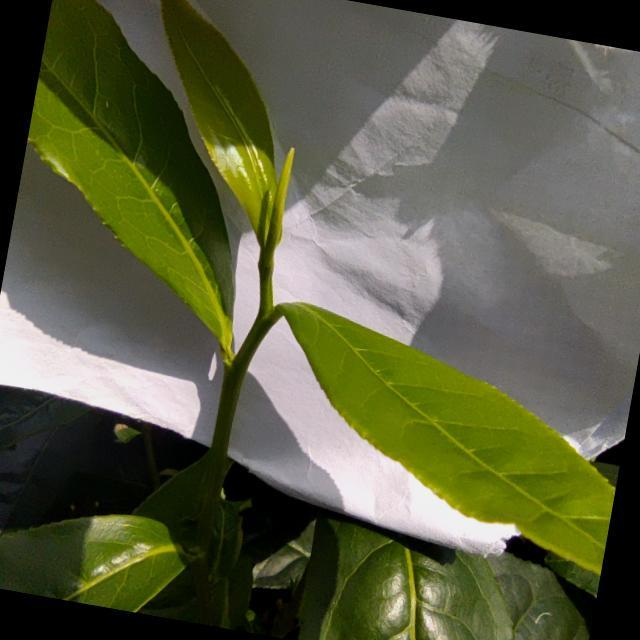Stem: (234, 322, 269, 362)
